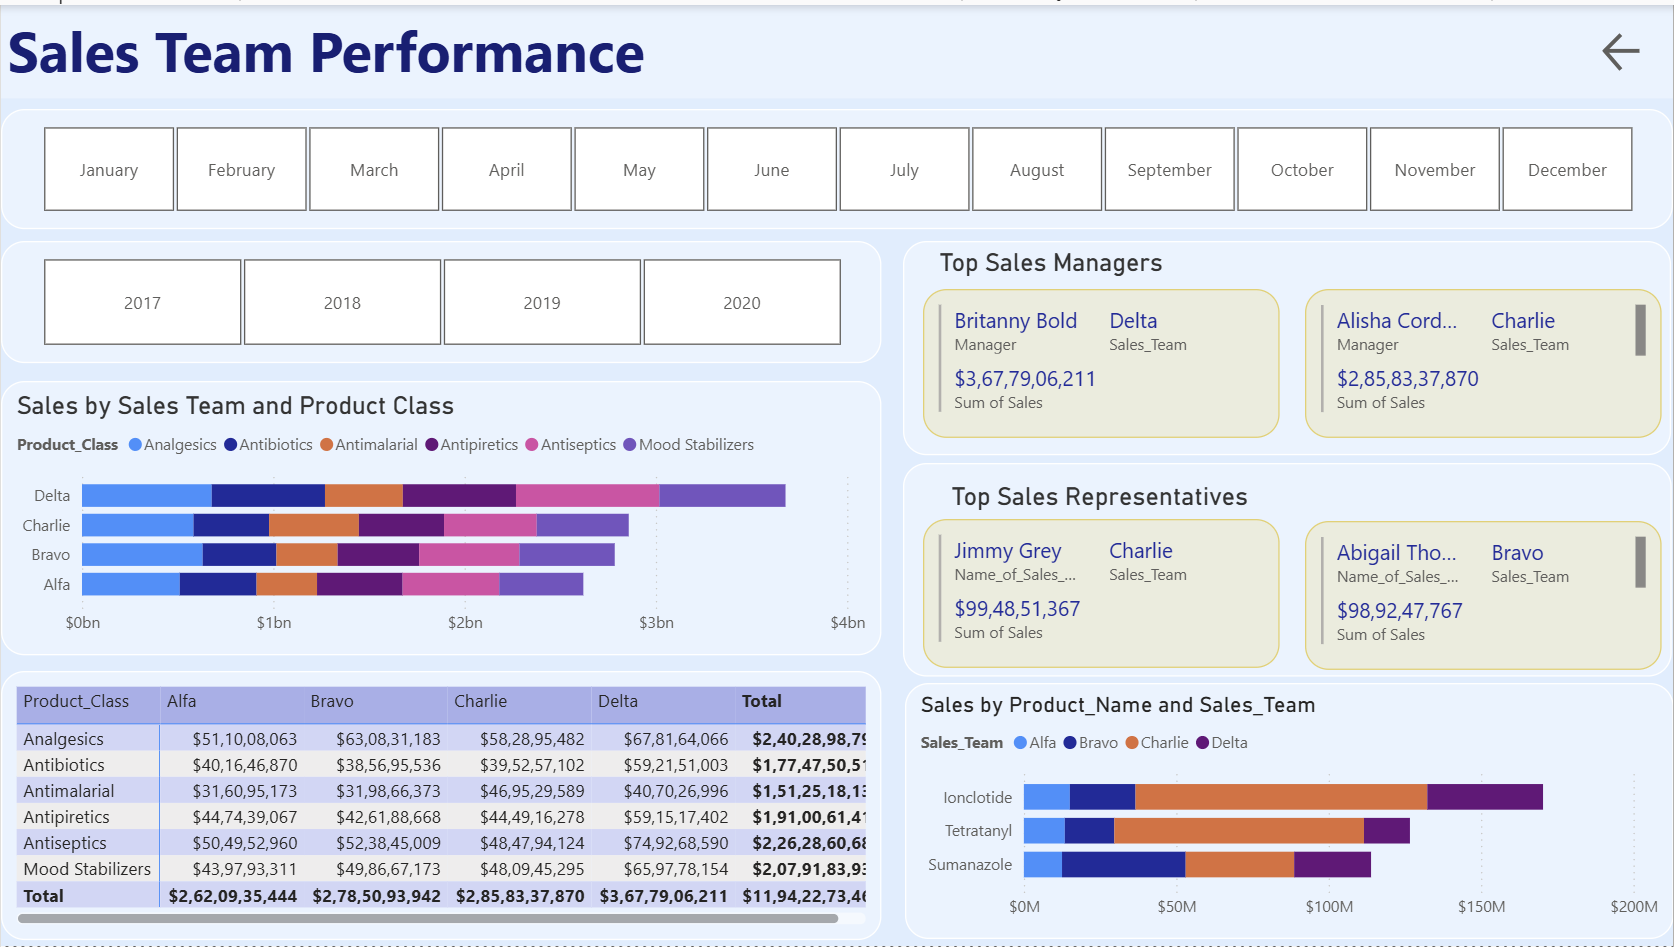

What the dashboard file says about the page in this screenshot:
{"tool":"powerbi","page":{"name":"Sales Team Performance","canvas":[1280,720],"ordinal":3},"visuals":[{"type":"shape","box":[690.5,180.7,587.9,163.8],"z":0},{"type":"textbox","box":[0,0,1280.3,71.4],"z":1000},{"type":"actionButton","box":[1221.3,16.5,41.2,38.4],"z":2000},{"type":"slicer","fields":{"Values":["dim_month.Month"]},"box":[0,79.6,1280,91.9],"z":3000},{"type":"slicer","fields":{"Values":["fact_sales.Year"]},"box":[0,181.1,673.8,93.3],"z":4000},{"type":"barChart","title":"Sales by Sales Team and Product Class","fields":{"Y":["fact_sales.Sales"],"Category":["dim_sales_team.Sales_Team"],"Series":["dim_product.Product_Class"]},"box":[0,288.2,673.8,209.9],"z":5000},{"type":"pivotTable","fields":{"Rows":["dim_product.Product_Class"],"Columns":["dim_sales_team.Sales_Team"],"Values":["fact_sales.Sales"]},"box":[0,509.1,673.8,205.8],"z":6000},{"type":"multiRowCard","fields":{"Values":["dim_sales_team.Manager","dim_sales_team.Sales_Team","fact_sales.Sales"]},"box":[705.3,216.8,273.1,113.9],"z":7000},{"type":"textbox","box":[713.6,181.1,528.3,35.7],"z":8000},{"type":"multiRowCard","fields":{"Values":["dim_sales_team.Manager","dim_sales_team.Sales_Team","fact_sales.Sales"]},"box":[999,216.8,273.1,113.9],"z":9000},{"type":"shape","box":[691,350.2,588.7,163.3],"z":10000},{"type":"multiRowCard","fields":{"Values":["dim_sales_rep.Name_of_Sales_Rep","dim_sales_team.Sales_Team","fact_sales.Sales"]},"box":[705.3,393.8,273.1,113.9],"z":11000},{"type":"textbox","box":[723.3,360.2,528.3,35.7],"z":12000},{"type":"multiRowCard","fields":{"Values":["dim_sales_rep.Name_of_Sales_Rep","dim_sales_team.Sales_Team","fact_sales.Sales"]},"box":[999,395.2,273.1,113.9],"z":13000},{"type":"barChart","title":"Sales by Product_Name and Sales_Team","fields":{"Y":["fact_sales.Sales"],"Category":["dim_product.Product_Name"],"Series":["dim_sales_team.Sales_Team"]},"box":[691.3,518.7,588.7,196.2],"z":14000}]}

Visuals, with their boxes in screenshot pixels (x1, y1, x2, y2), scaled from the page's 1280x720 canvas onto the 1674x947 screenshot:
shape: (left=903, top=238, right=1672, bottom=453)
textbox: (left=0, top=0, right=1673, bottom=94)
actionButton: (left=1597, top=22, right=1651, bottom=72)
slicer - dim_month.Month: (left=0, top=105, right=1673, bottom=226)
slicer - fact_sales.Year: (left=0, top=238, right=881, bottom=361)
"Sales by Sales Team and Product Class" barChart: (left=0, top=379, right=881, bottom=655)
pivotTable - dim_product.Product_Class x dim_sales_team.Sales_Team: (left=0, top=670, right=881, bottom=940)
multiRowCard - dim_sales_team.Manager x dim_sales_team.Sales_Team: (left=922, top=285, right=1280, bottom=435)
textbox: (left=933, top=238, right=1624, bottom=285)
multiRowCard - dim_sales_team.Manager x dim_sales_team.Sales_Team: (left=1307, top=285, right=1664, bottom=435)
shape: (left=904, top=461, right=1673, bottom=675)
multiRowCard - dim_sales_rep.Name_of_Sales_Rep x dim_sales_team.Sales_Team: (left=922, top=518, right=1280, bottom=668)
textbox: (left=946, top=474, right=1637, bottom=521)
multiRowCard - dim_sales_rep.Name_of_Sales_Rep x dim_sales_team.Sales_Team: (left=1307, top=520, right=1664, bottom=670)
"Sales by Product_Name and Sales_Team" barChart: (left=904, top=682, right=1673, bottom=940)
